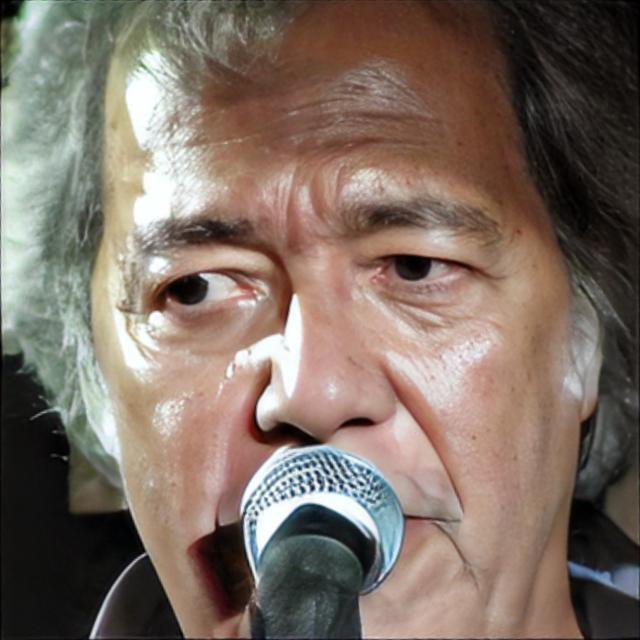anger: (105, 24, 588, 622)
